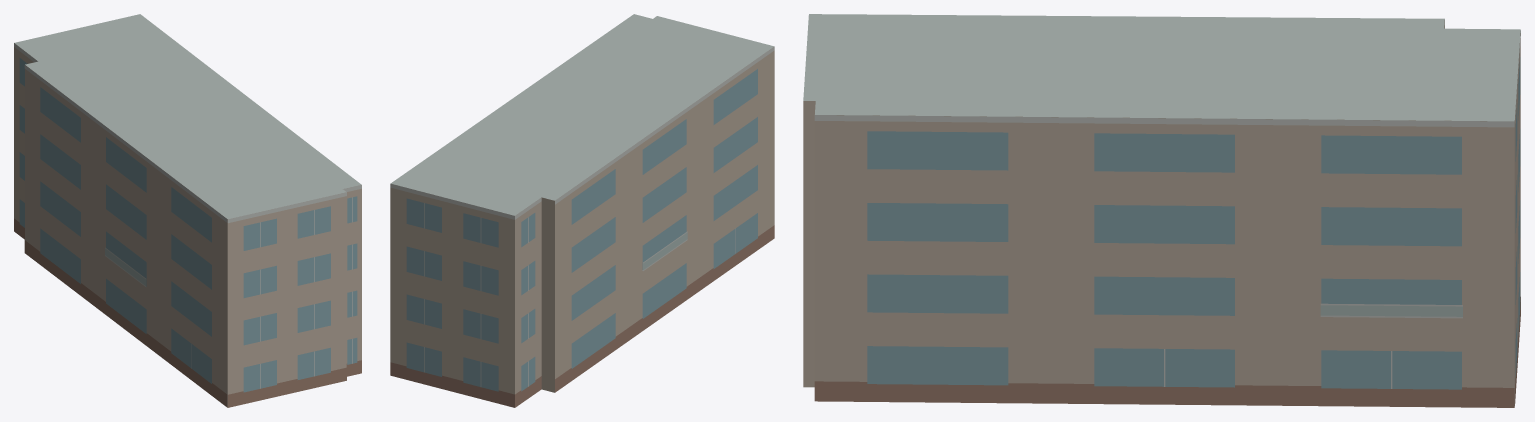
File: survey-upis-32990525.glb
The picture shows the model from 3 angles, left to right: view 1: azimuth 30°, elevation 25°; view 2: azimuth 150°, elevation 25°; view 3: azimuth 270°, elevation 25°; orthographic projection. The views are drawn at different scales.
Parts seen in each view (by area): view 1: survey-upis-32990525.tmp; view 2: survey-upis-32990525.tmp; view 3: survey-upis-32990525.tmp.
Boxes of the visible parts, x1,y1,x2,y2 form: survey-upis-32990525.tmp: [14, 14, 361, 407]; survey-upis-32990525.tmp: [390, 14, 774, 407]; survey-upis-32990525.tmp: [803, 14, 1520, 407].
Bounding box in the file's own units: 9.33 × 11.6 × 26.34.
